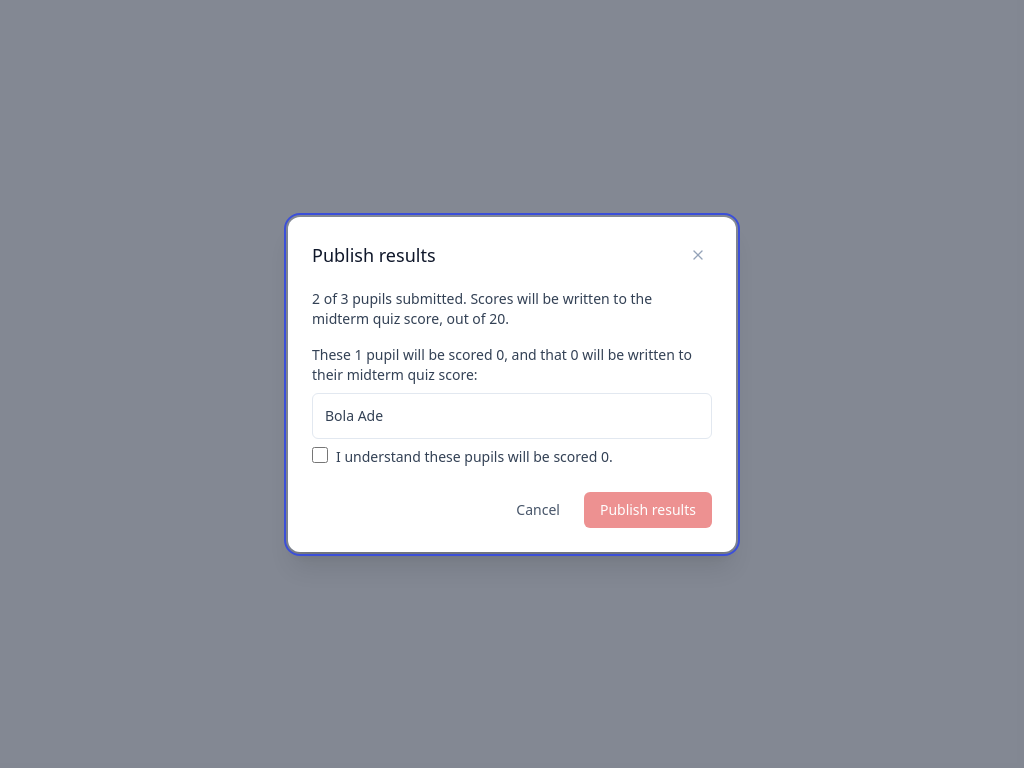
Scenario: PublishResultsModal › lists non-submitters by name and gates the confirm button on the checkbox
expect the text "Bola Ade" is shown: met, box x1=325 y1=406 x2=383 y2=424
expect the button "Publish results" is disabled: met, box x1=584 y1=492 x2=712 y2=528
Click the checkbox. click: (320, 454)
box: x1=312 y1=446 x2=328 y2=462
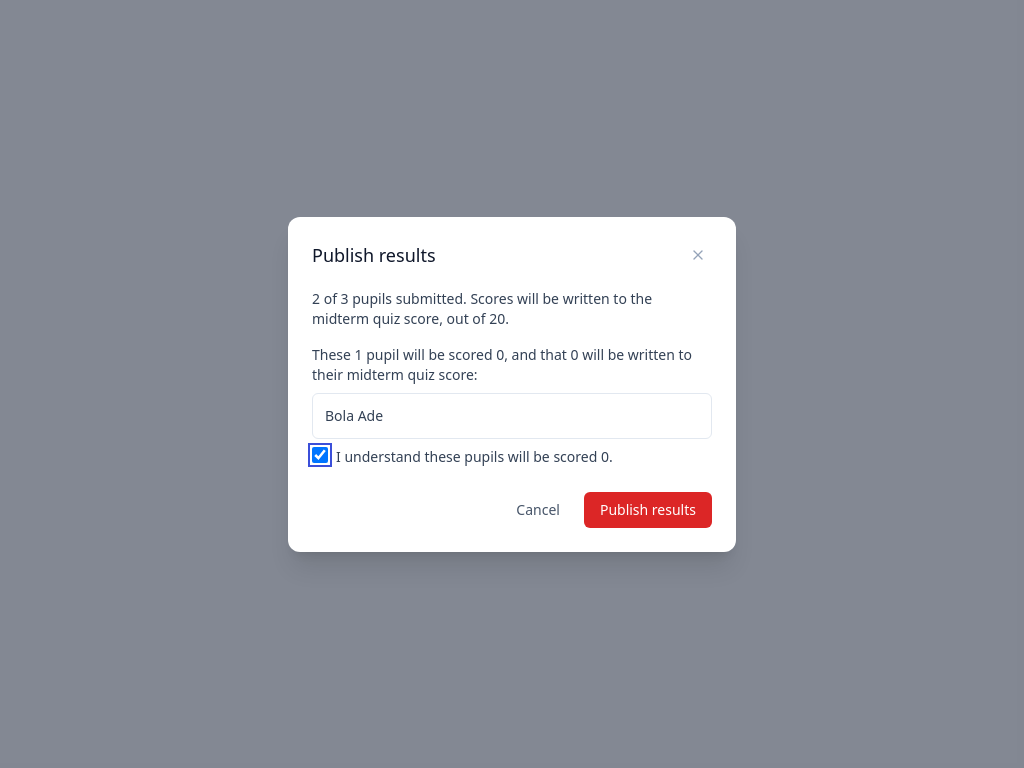
expect the button "Publish results" is enabled: met, box x1=584 y1=492 x2=712 y2=528
